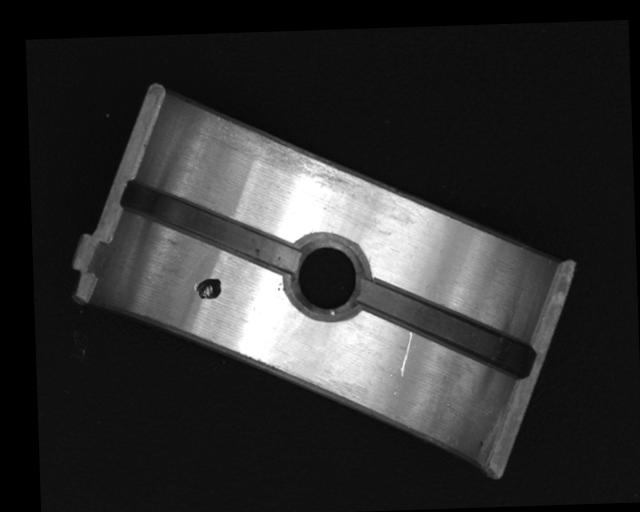blot: (192, 277, 222, 300)
gap: (359, 273, 531, 383), (121, 177, 299, 278)
hole: (286, 232, 366, 322)
nick: (398, 330, 413, 377)
scratch: (215, 112, 373, 195)
